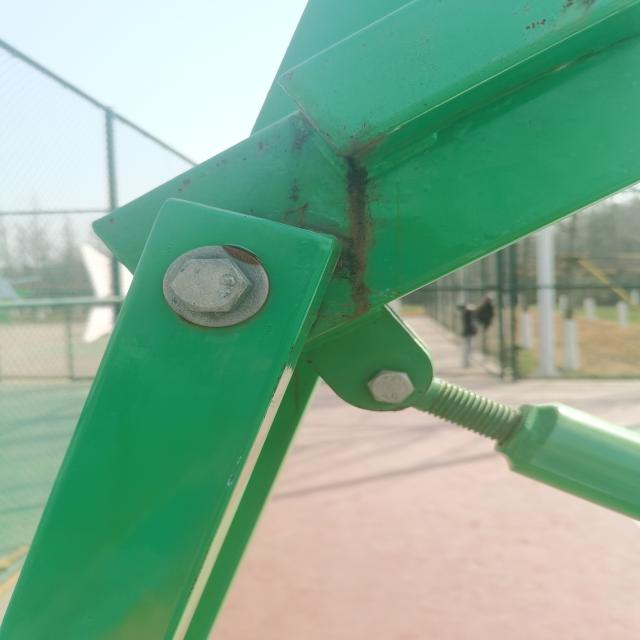bolt head: (168, 256, 255, 315), (364, 367, 416, 406)
